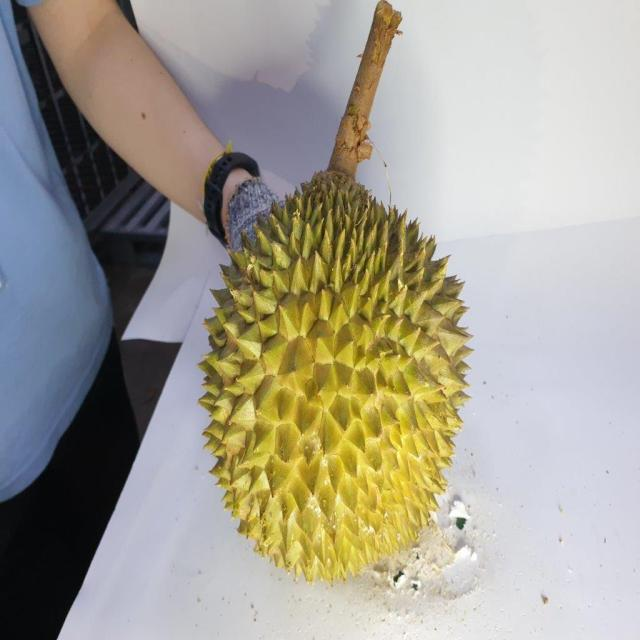immature: (200, 169, 475, 586)
